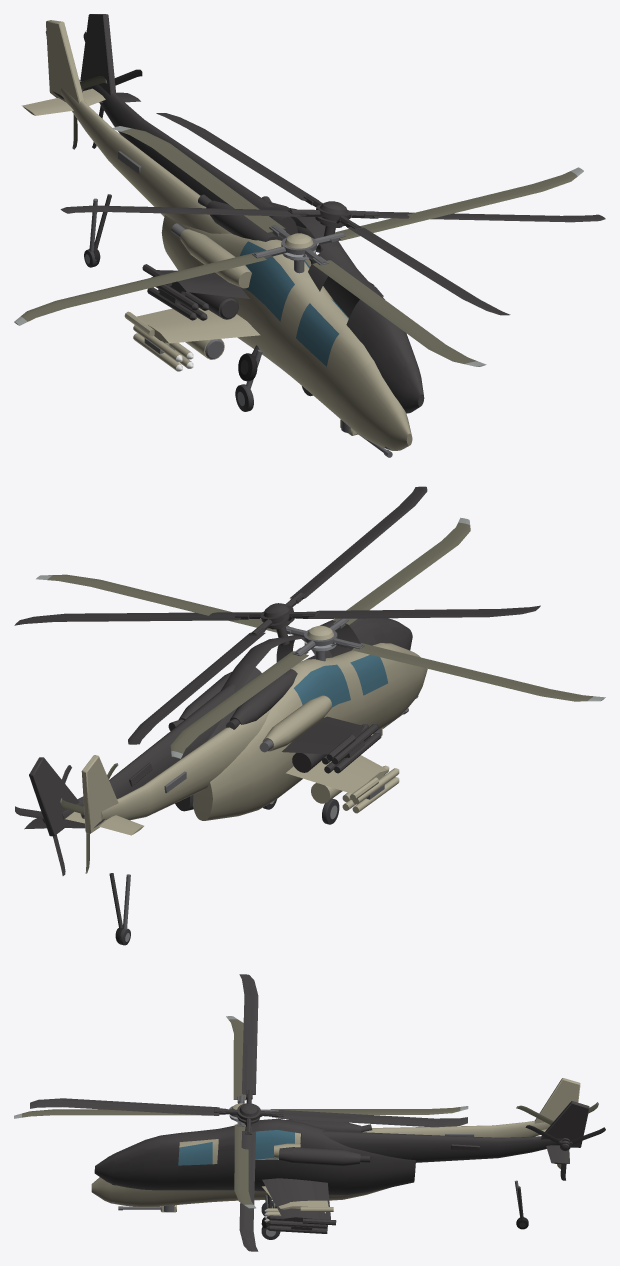
Rendered from gunship__tiger.glb.
The picture shows the model from 3 angles, top to bottom: view 1: azimuth 30°, elevation 25°; view 2: azimuth 150°, elevation 25°; view 3: azimuth 270°, elevation 25°; orthographic projection. The views are drawn at different scales.
Parts seen in each view (by area): view 1: Fuselage_Mesh, Wreck, Rotor_Main_Mesh, Stub_Wings_Stores_Mesh, Engines_Mesh, Landing_Gear_Mesh; view 2: Wreck, Fuselage_Mesh, Rotor_Main_Mesh, Stub_Wings_Stores_Mesh, Engines_Mesh, Landing_Gear_Mesh; view 3: Wreck, Fuselage_Mesh, Rotor_Main_Mesh, Stub_Wings_Stores_Mesh.
Boxes of the visible parts, left/top/right/bottom form: Fuselage_Mesh: left=22, top=20, right=412, bottom=450; Wreck: left=52, top=14, right=605, bottom=413; Rotor_Main_Mesh: left=14, top=126, right=583, bottom=366; Stub_Wings_Stores_Mesh: left=124, top=308, right=260, bottom=371; Engines_Mesh: left=171, top=223, right=311, bottom=288; Landing_Gear_Mesh: left=84, top=198, right=312, bottom=411; Wreck: left=14, top=486, right=540, bottom=943; Fuselage_Mesh: left=65, top=643, right=427, bottom=835; Rotor_Main_Mesh: left=36, top=517, right=605, bottom=758; Stub_Wings_Stores_Mesh: left=286, top=755, right=399, bottom=813; Engines_Mesh: left=259, top=695, right=331, bottom=752; Landing_Gear_Mesh: left=118, top=798, right=339, bottom=945; Wreck: left=30, top=974, right=605, bottom=1251; Fuselage_Mesh: left=91, top=1078, right=580, bottom=1206; Rotor_Main_Mesh: left=14, top=1016, right=468, bottom=1208; Stub_Wings_Stores_Mesh: left=262, top=1186, right=333, bottom=1222.
Size of what is drawn, in the model's own units: 13.48 by 5.61 by 16.94.
